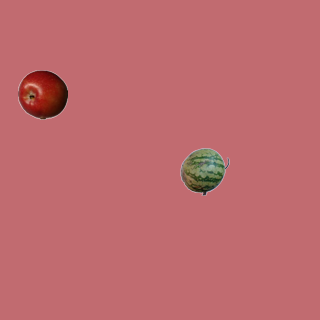Apple Braeburn: (17, 69, 67, 119)
Watermelon: (179, 146, 229, 196)
